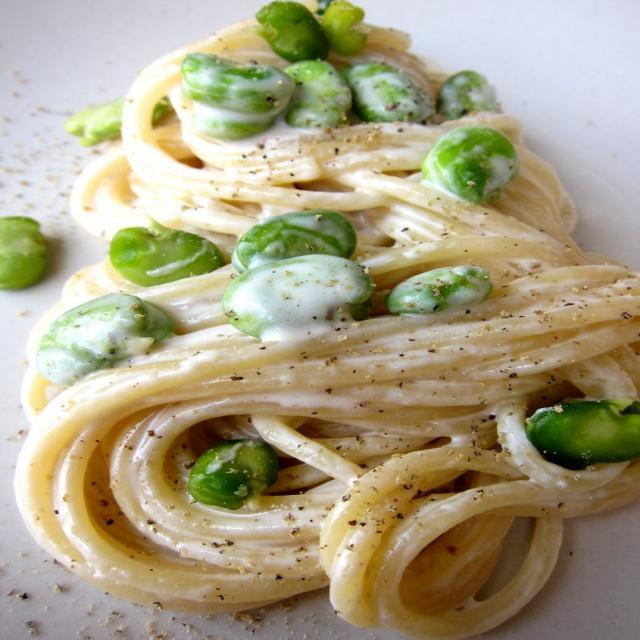Pasta with carbonara sauce: (18, 8, 640, 638)
